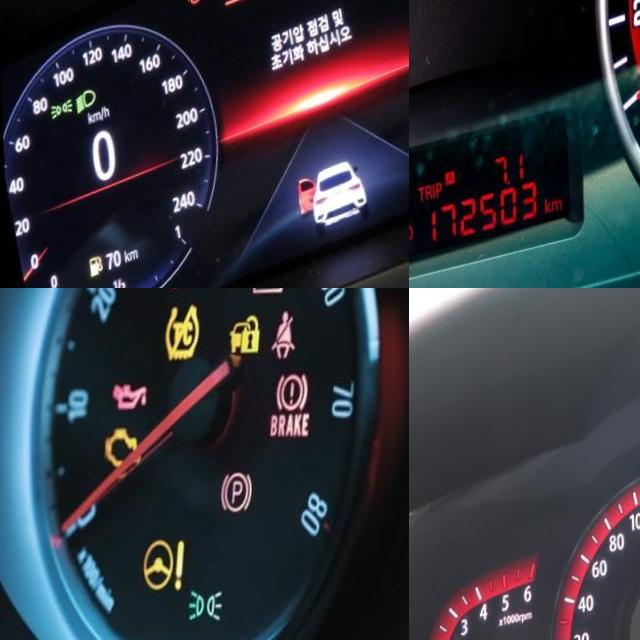Doors: (182, 0, 200, 16)
Low beam: (71, 90, 94, 118)
Low fuel level: (82, 257, 100, 283)
SideLamp: (183, 602, 217, 640), (45, 100, 71, 124)
